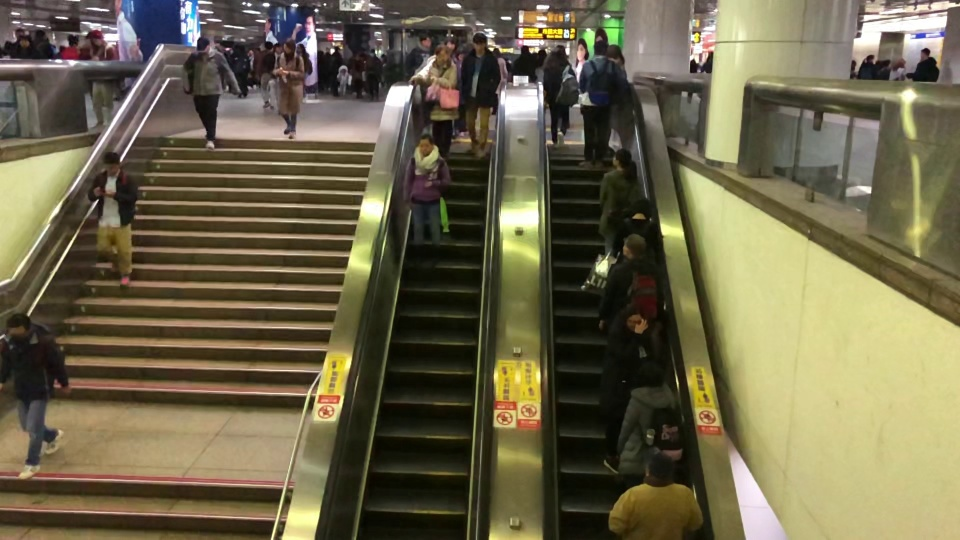person_head: (87, 150, 138, 291), (643, 452, 673, 480), (5, 312, 30, 343), (637, 362, 663, 386), (622, 233, 645, 256), (625, 304, 643, 330), (632, 197, 652, 220), (102, 150, 120, 174), (613, 148, 633, 169), (607, 43, 625, 63), (418, 133, 435, 154), (434, 44, 452, 63), (471, 31, 487, 52), (195, 36, 211, 52), (593, 40, 608, 56), (283, 37, 295, 54), (419, 31, 432, 46), (550, 47, 564, 60), (18, 35, 32, 46), (457, 44, 468, 58), (90, 34, 103, 45), (919, 47, 930, 59), (68, 36, 78, 46), (35, 29, 46, 38), (882, 58, 891, 68), (274, 42, 282, 53), (706, 50, 713, 62), (493, 47, 502, 56), (520, 45, 529, 54), (865, 54, 875, 62), (895, 57, 905, 65), (850, 59, 857, 70), (538, 50, 546, 59), (264, 40, 272, 48), (297, 43, 305, 51), (369, 49, 375, 56), (690, 58, 696, 64)
person_vbox: (0, 312, 71, 482), (597, 304, 648, 473), (607, 452, 703, 540), (616, 361, 685, 475), (180, 37, 240, 151), (402, 133, 452, 268), (597, 233, 662, 331), (578, 40, 627, 168), (461, 31, 501, 160), (414, 45, 458, 157), (597, 148, 633, 255), (544, 48, 579, 150), (272, 37, 304, 141), (87, 33, 119, 129), (612, 197, 652, 258), (405, 31, 433, 77), (265, 42, 282, 114), (906, 47, 939, 83), (256, 40, 272, 108), (296, 43, 314, 103), (492, 46, 507, 116), (364, 49, 383, 100), (511, 45, 537, 80), (12, 34, 38, 58), (686, 57, 698, 104), (34, 29, 52, 58), (60, 36, 81, 59), (858, 53, 876, 79), (888, 56, 905, 81), (876, 58, 891, 80), (700, 49, 713, 74), (850, 58, 857, 78)
